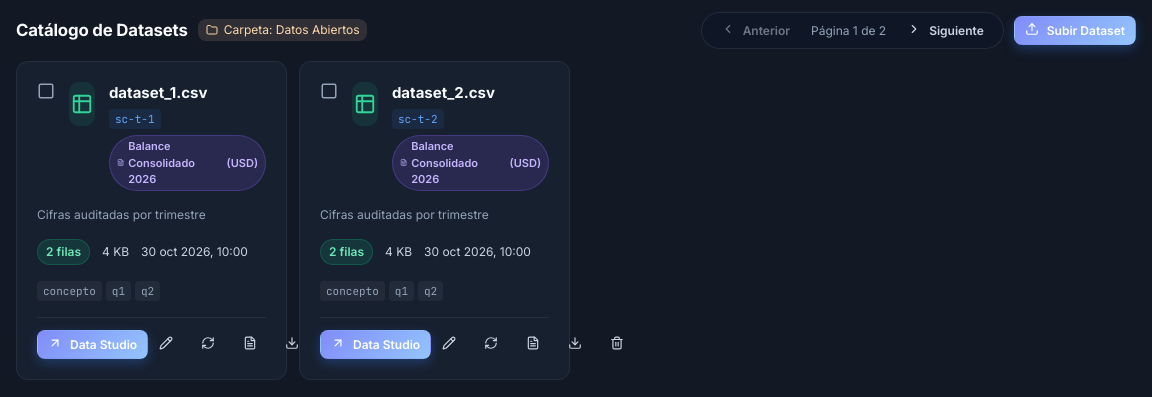
it: Module 15 — Rich Data Studio & Tables Catalog Metadata/Pagination › renders read-only metadataCard badge with tooltip in TableCard and supports catalog pagination
Expected: the element with test id "metadata-badge-sc-t-1" shows "Balance Consolidado 2026", [128,139,195,186]
Expected: the element with test id "metadata-badge-sc-t-1" shows "(USD)", [231,156,254,170]
# Navigate to Page 2
Click the button with aria-label "Página siguiente" at (946, 30), box [896,16,995,45]
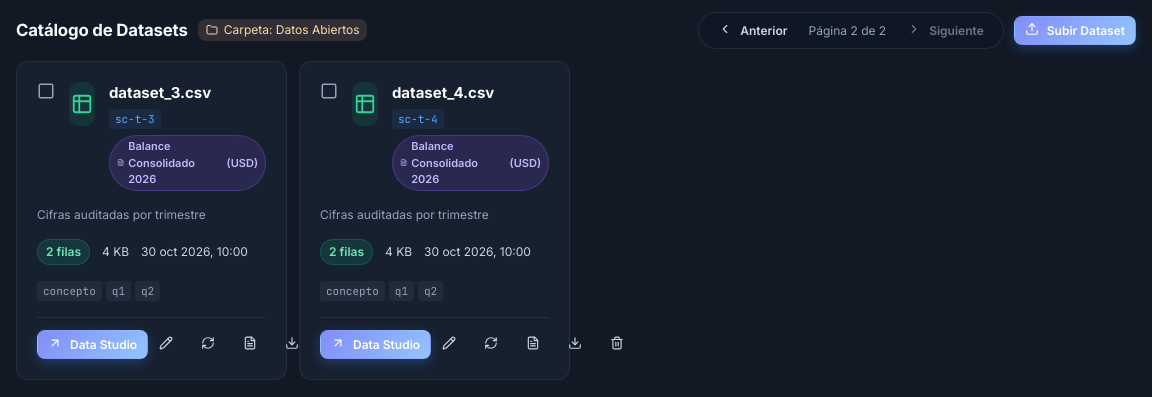
Now the text "Página 2 de 2" is shown, box [804,22,890,40]
Now the text "dataset_3.csv" is shown, box [109,83,211,102]
